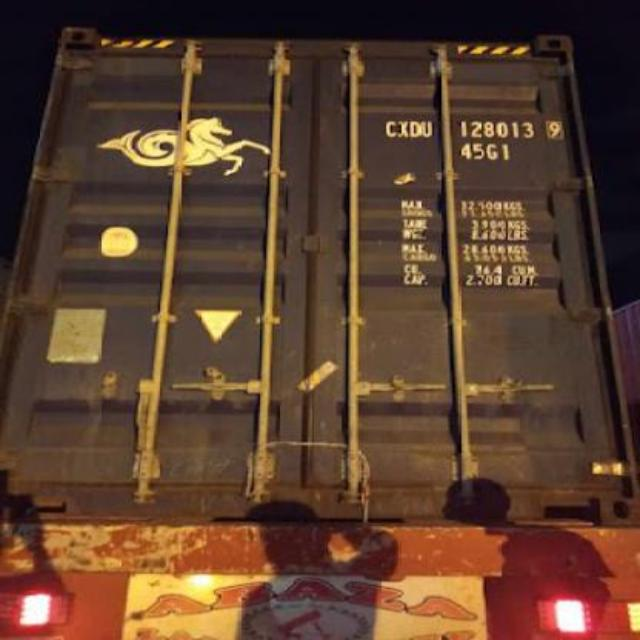0: (494, 115, 510, 139)
1: (454, 112, 470, 138), (510, 112, 520, 140)
2: (470, 110, 482, 140)
3: (520, 112, 538, 142)
8: (482, 114, 496, 138)
9: (544, 116, 566, 140)
C: (380, 114, 398, 138)
D: (408, 115, 422, 142)
U: (418, 116, 432, 140)
X: (396, 114, 408, 138)
